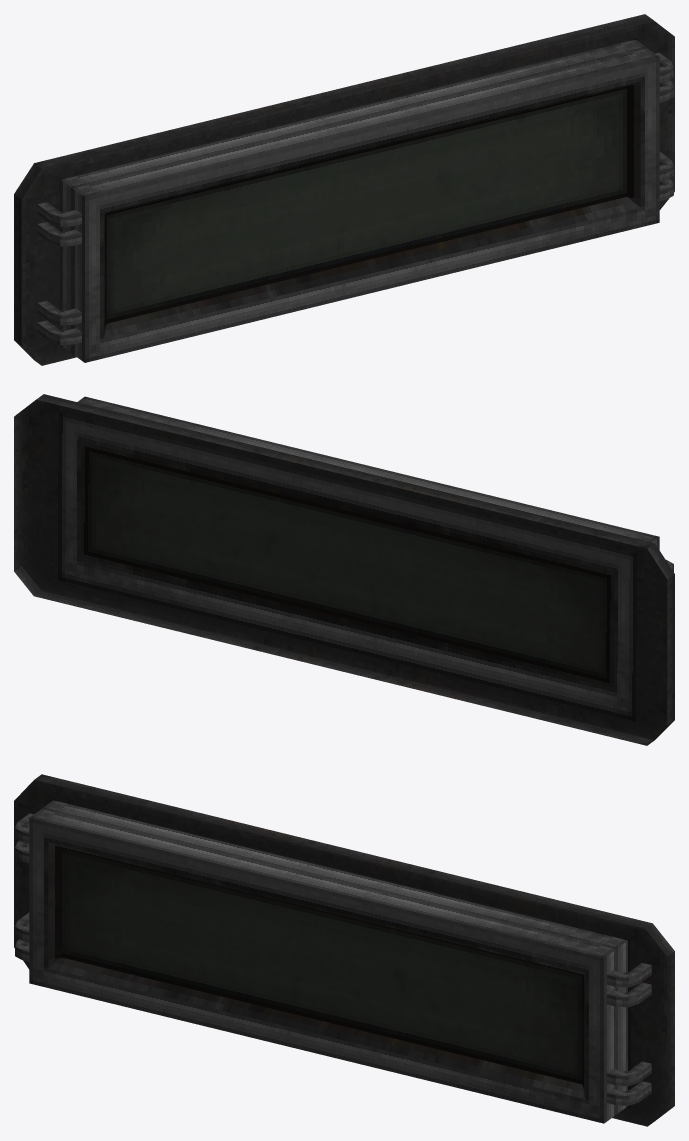
File: elevator_screen_1.glb
3 views of the same model, one above another, from view 1: azimuth 30°, elevation 25°; view 2: azimuth 150°, elevation 25°; view 3: azimuth 330°, elevation 25° (orthographic).
Parts seen in each view (by area): view 1: elevator_screen_1; view 2: elevator_screen_1; view 3: elevator_screen_1.
Boxes of the visible parts, <box> form: elevator_screen_1: <box>14,14,674,365</box>; elevator_screen_1: <box>14,394,674,745</box>; elevator_screen_1: <box>14,774,674,1126</box>.
Bounding box in the file's own units: 0.6935 × 0.2 × 0.058.
Materials: 1 (1 with a texture image).
